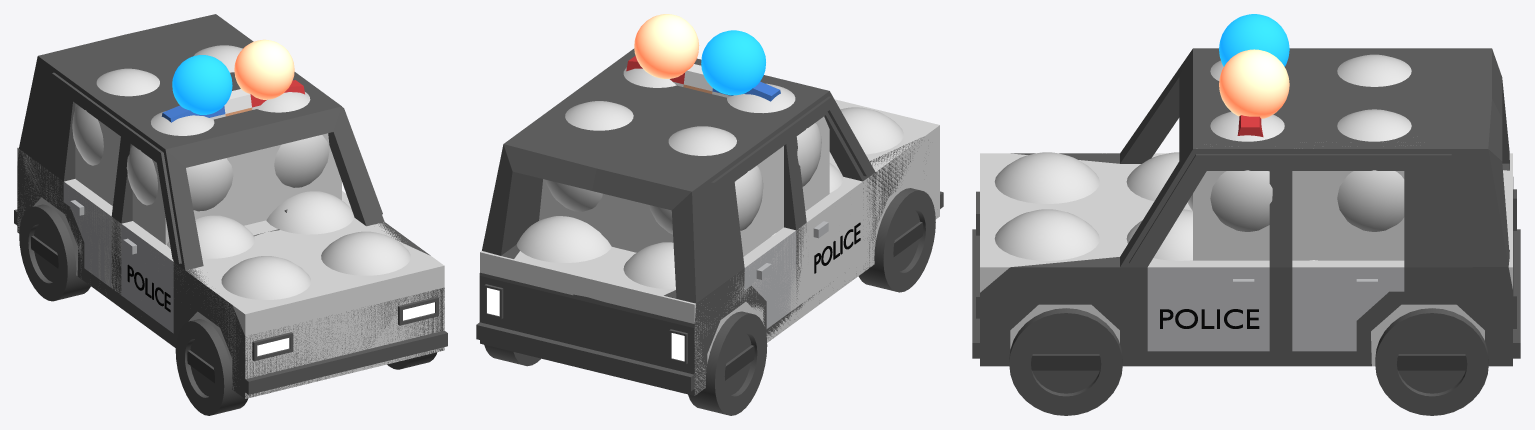
Rendered from policecar.glb.
The picture shows the model from 3 angles, left to right: view 1: azimuth 30°, elevation 25°; view 2: azimuth 150°, elevation 25°; view 3: azimuth 270°, elevation 25°; orthographic projection. The views are drawn at different scales.
Visible parts, largest first — view 1: body, Cube.006, Cube.002, wheel_fr, wheel, Sphere.002, door_2, Sphere, Sphere.003, Sphere.001, Sphere.013, Sphere.012 (+8 smaller); view 2: body, Cube.006, Cube.002, wheel, wheel_fr, Sphere.013, Sphere.012, Sphere.007, Sphere.005, door_4, Sphere.004, Sphere.002 (+6 smaller); view 3: body, Cube.006, Cube.002, door_1, wheel_fl, Cylinder.001, door_3, Sphere.004, Sphere.001, Sphere, Sphere.003, Sphere.012 (+5 smaller).
Boxes of the visible parts, left/top/right/bottom form: body: left=14, top=14, right=447, bottom=398; Cube.006: left=17, top=147, right=444, bottom=398; Cube.002: left=75, top=103, right=341, bottom=244; wheel_fr: left=175, top=319, right=248, bottom=415; wheel: left=19, top=204, right=90, bottom=301; Sphere.002: left=126, top=111, right=233, bottom=211; door_2: left=121, top=224, right=173, bottom=333; Sphere: left=321, top=231, right=410, bottom=310; Sphere.003: left=221, top=256, right=310, bottom=335; Sphere.001: left=257, top=92, right=329, bottom=187; Sphere.013: left=172, top=55, right=232, bottom=114; Sphere.012: left=234, top=39, right=294, bottom=99; body: left=476, top=48, right=943, bottom=395; Cube.006: left=480, top=99, right=939, bottom=394; Cube.002: left=539, top=116, right=829, bottom=256; wheel: left=688, top=311, right=767, bottom=415; wheel_fr: left=858, top=188, right=935, bottom=292; Sphere.013: left=701, top=30, right=765, bottom=95; Sphere.012: left=634, top=14, right=699, bottom=78; Sphere.007: left=649, top=126, right=763, bottom=234; Sphere.005: left=516, top=216, right=611, bottom=262; door_4: left=744, top=230, right=796, bottom=328; Sphere.004: left=545, top=101, right=633, bottom=211; Sphere.002: left=727, top=83, right=821, bottom=186; body: left=972, top=48, right=1520, bottom=366; Cube.006: left=980, top=153, right=1512, bottom=366; Cube.002: left=1193, top=171, right=1404, bottom=260; door_1: left=1147, top=267, right=1269, bottom=351; wheel_fl: left=1009, top=308, right=1122, bottom=415; Cylinder.001: left=1375, top=308, right=1488, bottom=415; door_3: left=1292, top=267, right=1404, bottom=351; Sphere.004: left=1337, top=109, right=1411, bottom=231; Sphere.001: left=1187, top=111, right=1284, bottom=231; Sphere: left=994, top=209, right=1099, bottom=260; Sphere.003: left=994, top=152, right=1099, bottom=203; Sphere.012: left=1219, top=49, right=1289, bottom=118.
Bounding box in the file's own units: 1.33 × 1.62 × 2.49.
